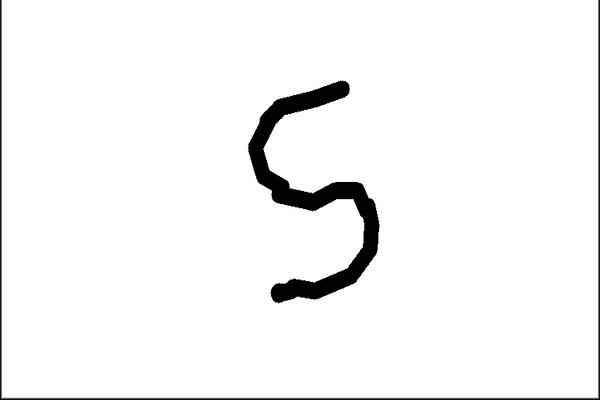S: (226, 72, 391, 311)
